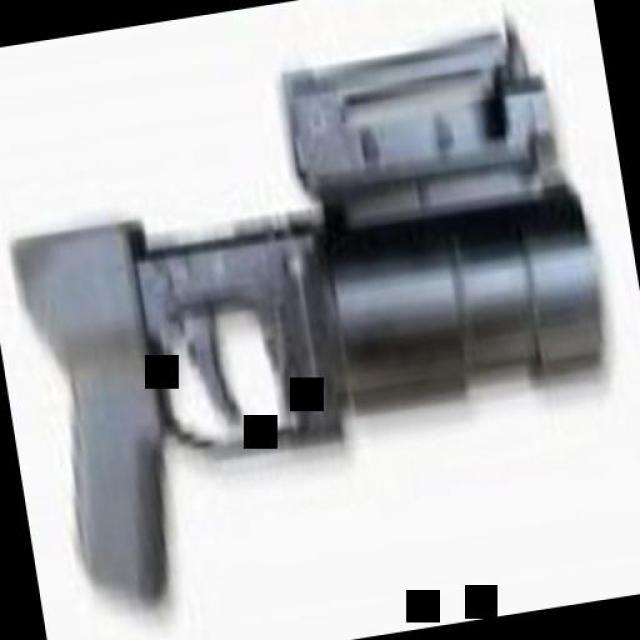gun: (0, 23, 626, 622)
